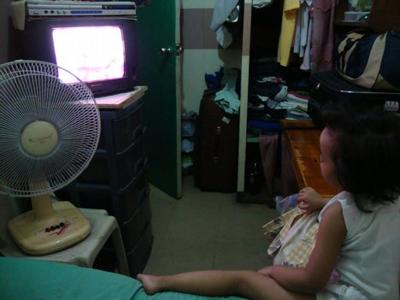person: (132, 102, 400, 298)
